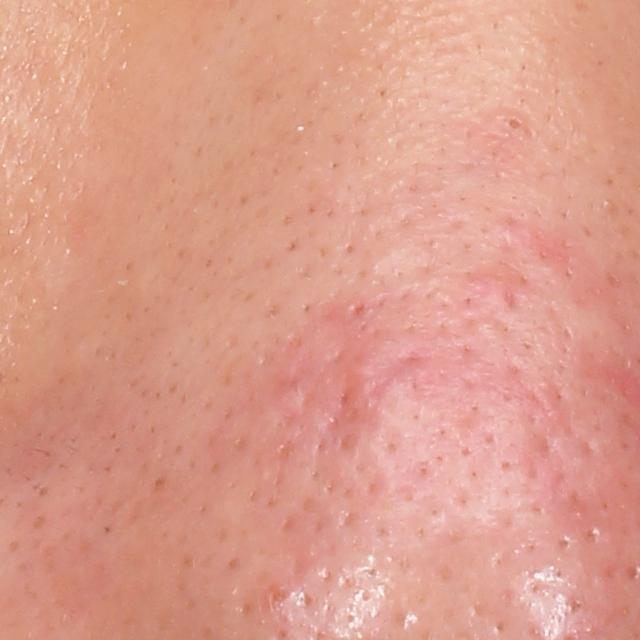comedo: (500, 114, 528, 138)
